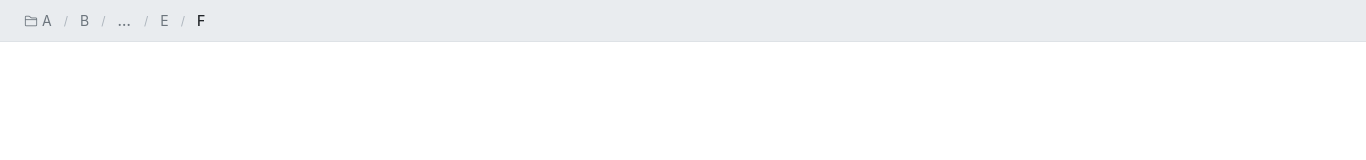
Test: Breadcrumb › ellipsis click opens dropdown with hidden items
Click the button "…" at {"x": 125, "y": 20}, box [118,12,132,29]
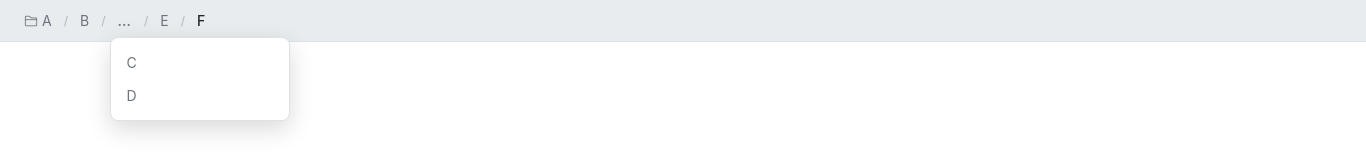
Expected: the text "C" is shown, [126,54,137,71]
Expected: the text "D" is shown, [126,87,137,104]
